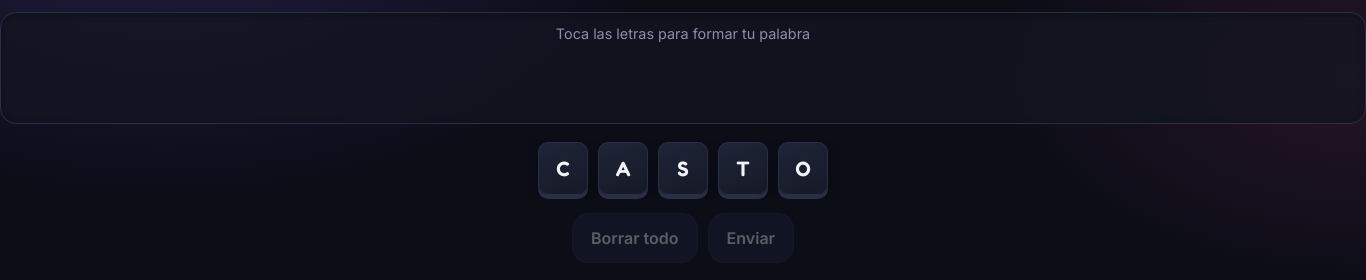
Test: LetterBoard › añade letras a la respuesta en el orden en que se tocan
Click the button "C". click: coordinates (563, 169)
box: [538,142,588,195]
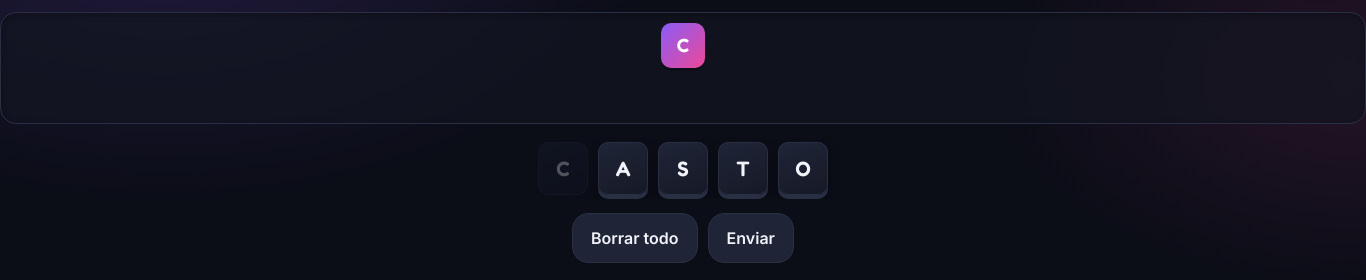
Click the button "A". click: coordinates (623, 169)
box: [598,142,648,195]
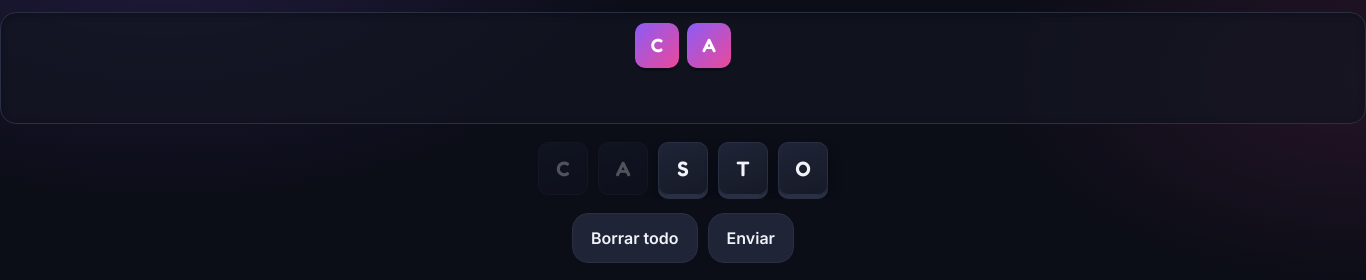
Click the button "S". click: coordinates (683, 169)
box: [658,142,708,195]
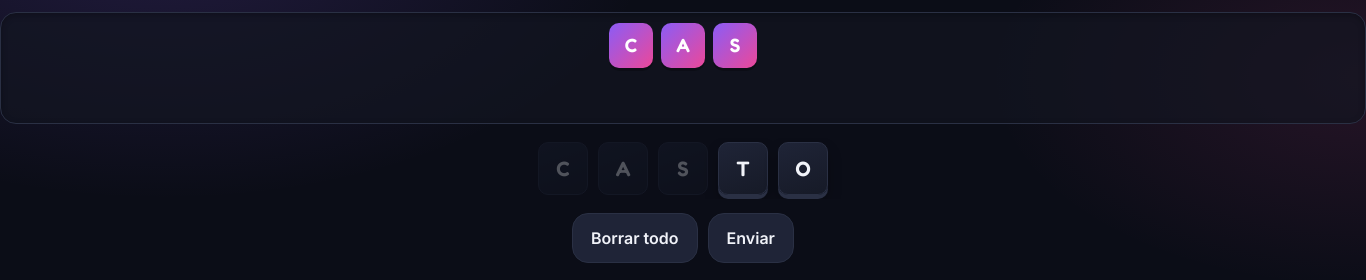
Check: the element named "Tu palabra" reads "C A S", box [0,12,1365,124]
